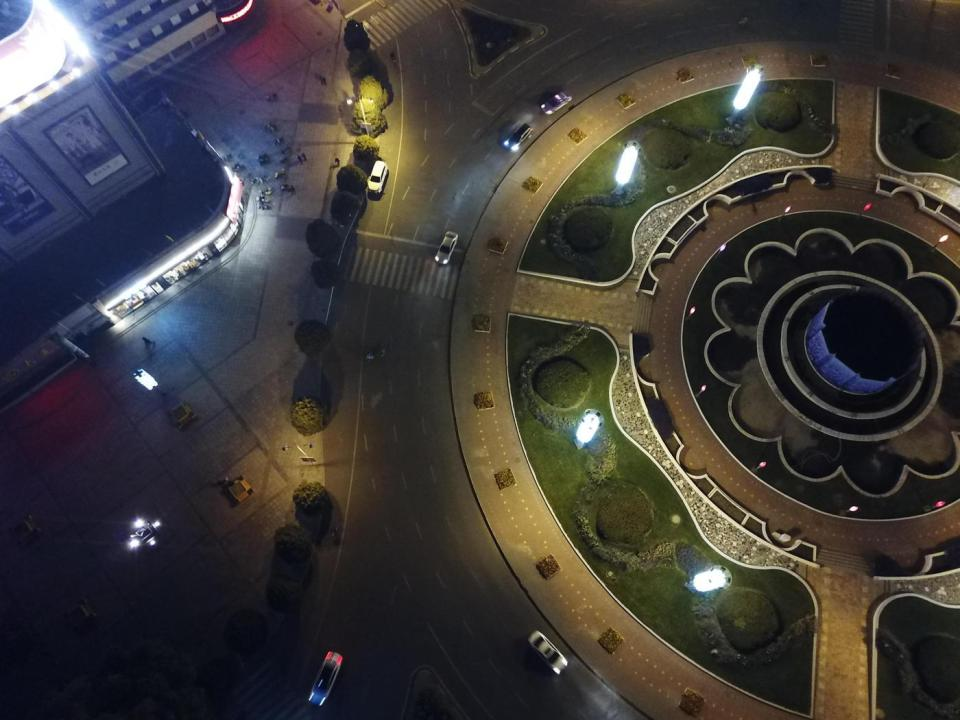car: (308, 652, 342, 706), (527, 629, 567, 674), (502, 121, 533, 151), (538, 89, 572, 113), (434, 231, 458, 264)
van: (367, 160, 388, 193)
